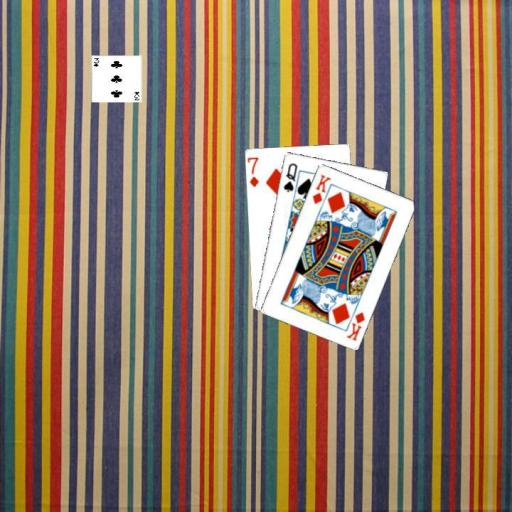7D: (246, 154, 260, 189)
KD: (309, 172, 332, 206), (344, 309, 367, 342)
QS: (280, 160, 299, 194)
